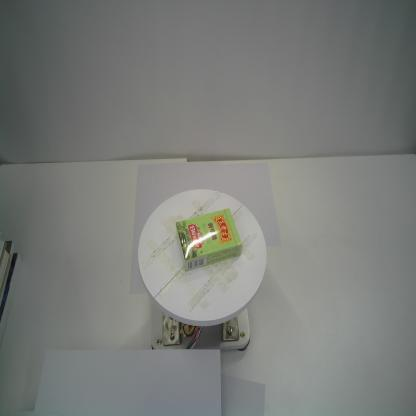Candy: (176, 207, 242, 272)
